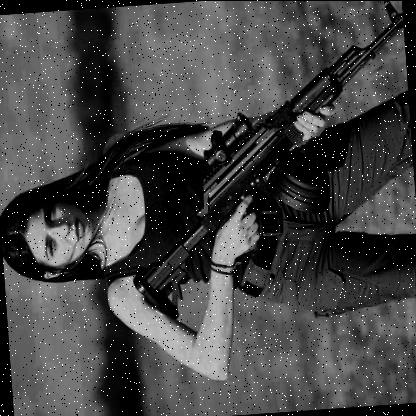rifle: (109, 0, 416, 322)
